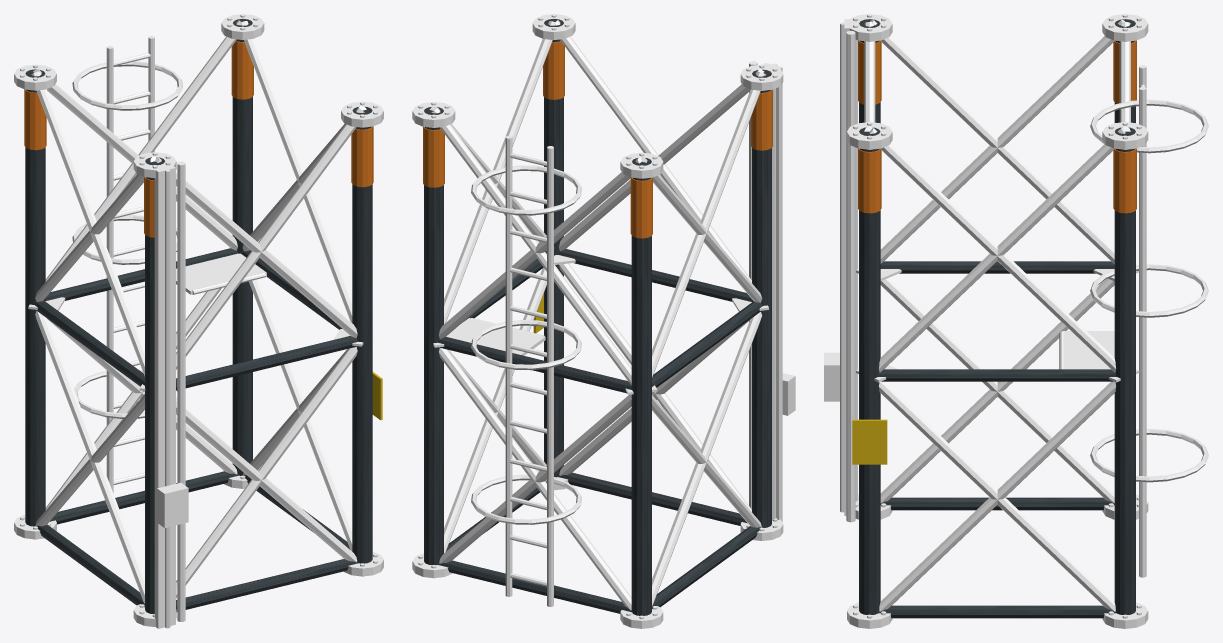
The model's file is gp_tower_mast.glb.
3 renders of one model, left to right at view 1: azimuth 30°, elevation 25°; view 2: azimuth 150°, elevation 25°; view 3: azimuth 270°, elevation 25°, orthographic. The views are drawn at different scales.
Parts seen in each view (by area): view 1: GP_MAST; view 2: GP_MAST; view 3: GP_MAST.
Part boxes in pixels (x1,y1,x2,y2): GP_MAST: [14, 14, 383, 628]; GP_MAST: [412, 14, 795, 628]; GP_MAST: [824, 14, 1208, 628].
Bounding box in the file's own units: 2.24 × 4.06 × 2.86.
7 materials, 1 textured.
